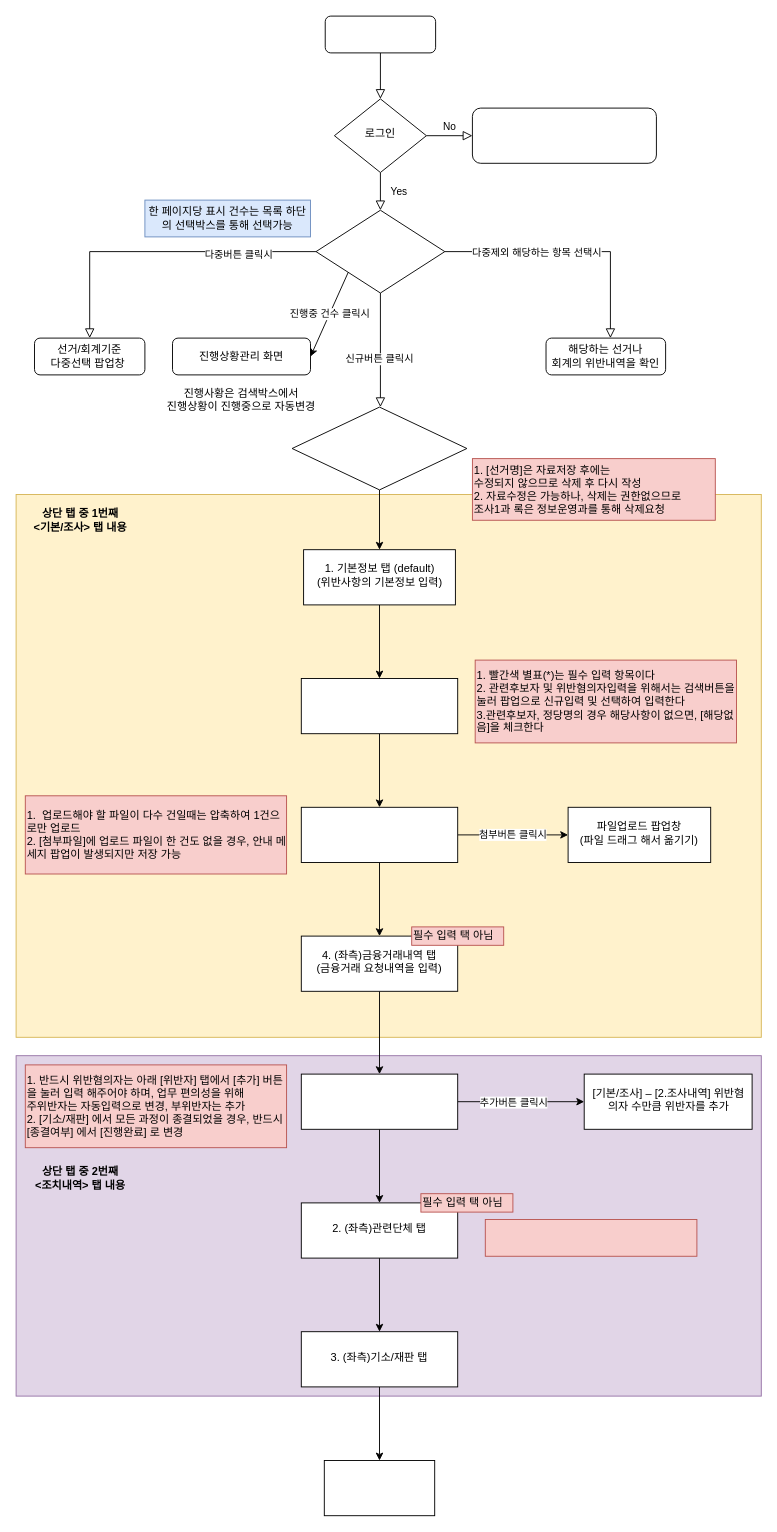
This 777x1532 diagram has some shape labels left out. The shapes that lost their labels are listed below. From the top down, each one's box as (x1, y1, x2, y2) in pixels, then its label:
(324, 15, 436, 53): 조사단속관리시스템
(472, 107, 656, 163): 하단 FAQ 확인 정보운영과 조사단속관리 시스템 담당자문의
(315, 209, 445, 293): 조사단속현황판 (다중 default)
(291, 406, 467, 490): 통합관리 입력팝업창 (정보를 입력한다)
(300, 678, 458, 734): 2.(좌측)조사내역 탭 (위반사항의 조사정보를 입력)
(300, 806, 458, 862): 3.(좌측)첨부파일 탭
(300, 1073, 458, 1129): 1.조치사항/위반자 탭(default)
(484, 1219, 697, 1256): 관련단체를 신규로 등록해야한다면 [통합대상자] - [관련단체] 메뉴에서 추가
